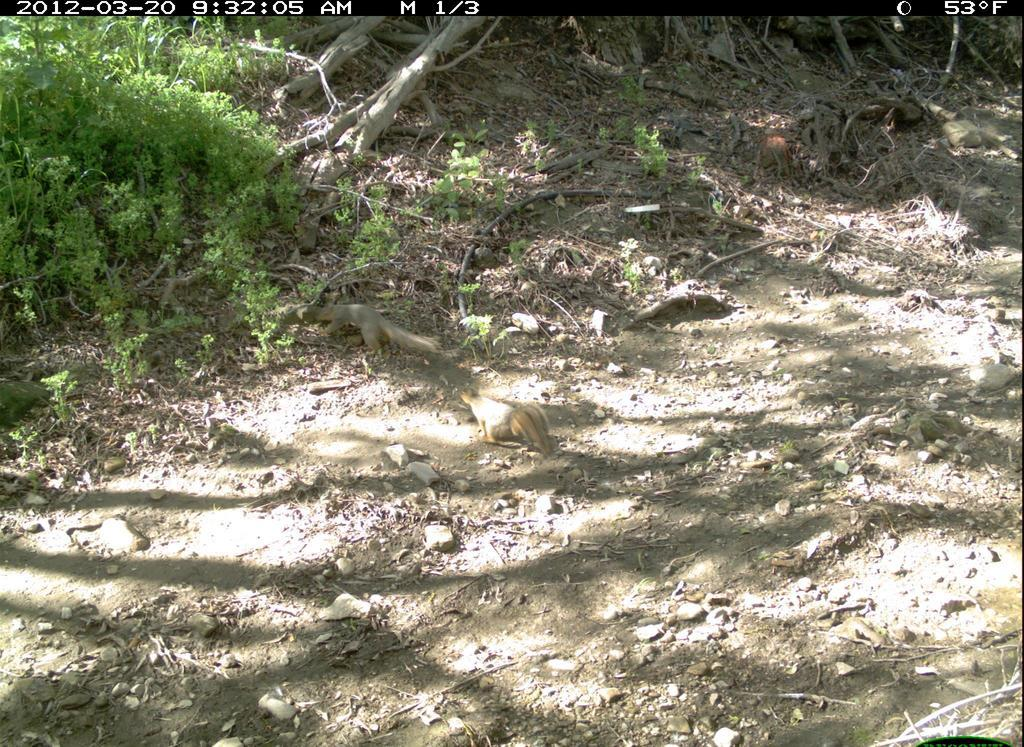squirrel: (306, 291, 451, 367), (450, 376, 567, 465)
